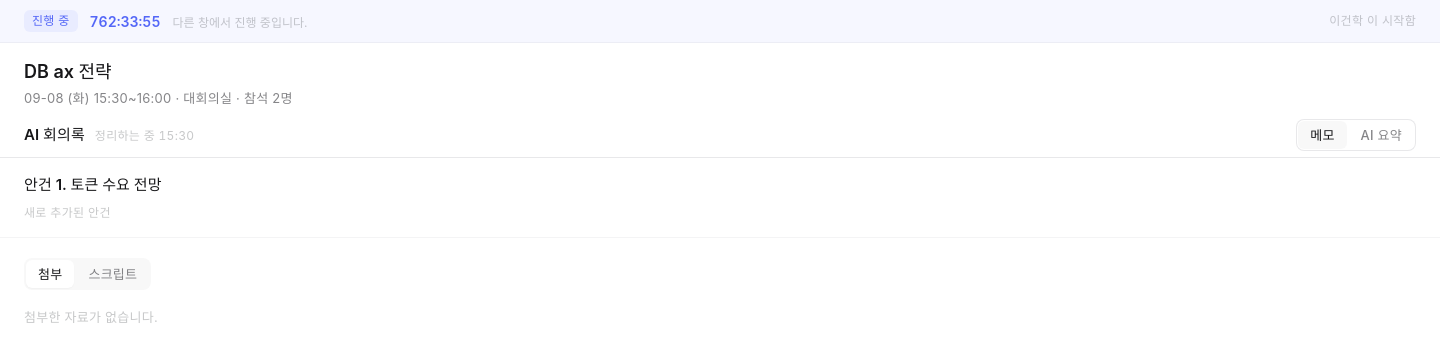
SCR-106 「진행 중」 — 회의 스트림 › 업스트림 자리가 찼으면 구독으로 다시 붙어 갱신은 그대로 받는다
Expected: the heading "DB ax 전략" is shown, [24,59,112,85]
Expected: the text "다른 창에서 진행 중입니다." is shown, [172,12,308,30]
Click the tab "스크립트": (113, 274) [76,260,149,288]
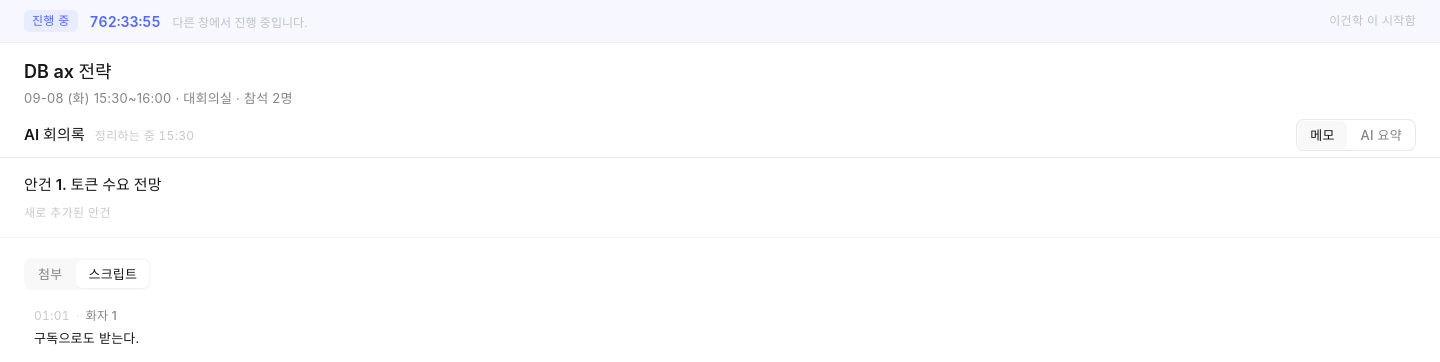
Now the text "구독으로도 받는다." is shown, box [34,330,140,346]
